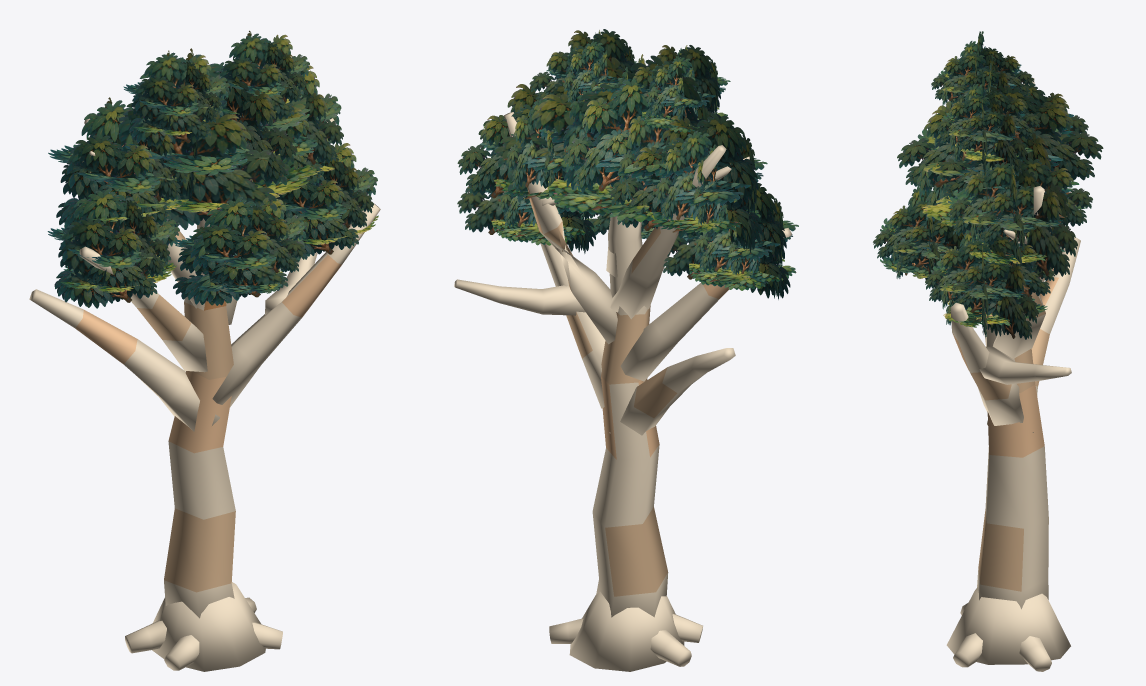
Rendered from TREE_EUCALYPTUS_001_v011_LOD_MAP.glb.
3 renders of one model, left to right at view 1: azimuth 30°, elevation 25°; view 2: azimuth 150°, elevation 25°; view 3: azimuth 270°, elevation 25°, orthographic. The views are drawn at different scales.
Visible parts, largest first — view 1: TREE_EUCALYPTUS_001_MAP_AUTHORED_FOLIAGE_ISLANDS, TREE_EUCALYPTUS_001_MAP_MAIN_TRUNK, TREE_EUCALYPTUS_001_MAP_LOWER_LEFT_SWEEP, TREE_EUCALYPTUS_001_MAP_SCULPTED_ROOT_COLLAR, TREE_EUCALYPTUS_001_MAP_MID_RIGHT_SWEEP, TREE_EUCALYPTUS_001_MAP_MID_LEFT_ARCH, TREE_EUCALYPTUS_001_MAP_ROOT_LONG_LEFT, TREE_EUCALYPTUS_001_MAP_ROOT_FRONT_LEFT, TREE_EUCALYPTUS_001_MAP_LOWER_RIGHT_REACH, TREE_EUCALYPTUS_001_MAP_UPPER_LEFT_FORK; view 2: TREE_EUCALYPTUS_001_MAP_AUTHORED_FOLIAGE_ISLANDS, TREE_EUCALYPTUS_001_MAP_MAIN_TRUNK, TREE_EUCALYPTUS_001_MAP_SCULPTED_ROOT_COLLAR, TREE_EUCALYPTUS_001_MAP_UPPER_RIGHT_ARCH, TREE_EUCALYPTUS_001_MAP_MID_LEFT_ARCH, TREE_EUCALYPTUS_001_MAP_LOWER_LEFT_SWEEP, TREE_EUCALYPTUS_001_MAP_UPPER_LEFT_FORK, TREE_EUCALYPTUS_001_MAP_LOWER_RIGHT_REACH, TREE_EUCALYPTUS_001_MAP_MID_RIGHT_SWEEP, TREE_EUCALYPTUS_001_MAP_ROOT_LONG_LEFT, TREE_EUCALYPTUS_001_MAP_ROOT_RIGHT_SIDE, TREE_EUCALYPTUS_001_MAP_ROOT_FRONT_LEFT; view 3: TREE_EUCALYPTUS_001_MAP_AUTHORED_FOLIAGE_ISLANDS, TREE_EUCALYPTUS_001_MAP_MAIN_TRUNK, TREE_EUCALYPTUS_001_MAP_SCULPTED_ROOT_COLLAR, TREE_EUCALYPTUS_001_MAP_MID_RIGHT_SWEEP, TREE_EUCALYPTUS_001_MAP_LOWER_RIGHT_REACH, TREE_EUCALYPTUS_001_MAP_LOWER_LEFT_SWEEP, TREE_EUCALYPTUS_001_MAP_UPPER_RIGHT_ARCH, TREE_EUCALYPTUS_001_MAP_ROOT_RIGHT_SIDE, TREE_EUCALYPTUS_001_MAP_ROOT_FRONT_RIGHT.
Boxes of the visible parts, box(x1,y1,x2,y2) form: TREE_EUCALYPTUS_001_MAP_AUTHORED_FOLIAGE_ISLANDS: box(47, 30, 378, 308); TREE_EUCALYPTUS_001_MAP_MAIN_TRUNK: box(164, 218, 235, 618); TREE_EUCALYPTUS_001_MAP_LOWER_LEFT_SWEEP: box(29, 289, 219, 431); TREE_EUCALYPTUS_001_MAP_SCULPTED_ROOT_COLLAR: box(152, 582, 265, 671); TREE_EUCALYPTUS_001_MAP_MID_RIGHT_SWEEP: box(212, 203, 380, 407); TREE_EUCALYPTUS_001_MAP_MID_LEFT_ARCH: box(79, 246, 207, 372); TREE_EUCALYPTUS_001_MAP_ROOT_LONG_LEFT: box(125, 620, 166, 653); TREE_EUCALYPTUS_001_MAP_ROOT_FRONT_LEFT: box(164, 635, 199, 670); TREE_EUCALYPTUS_001_MAP_LOWER_RIGHT_REACH: box(265, 252, 317, 314); TREE_EUCALYPTUS_001_MAP_UPPER_LEFT_FORK: box(84, 118, 197, 308); TREE_EUCALYPTUS_001_MAP_AUTHORED_FOLIAGE_ISLANDS: box(457, 29, 798, 299); TREE_EUCALYPTUS_001_MAP_MAIN_TRUNK: box(592, 213, 668, 617); TREE_EUCALYPTUS_001_MAP_SCULPTED_ROOT_COLLAR: box(569, 591, 684, 671); TREE_EUCALYPTUS_001_MAP_UPPER_RIGHT_ARCH: box(504, 112, 617, 344); TREE_EUCALYPTUS_001_MAP_MID_LEFT_ARCH: box(620, 228, 791, 381); TREE_EUCALYPTUS_001_MAP_LOWER_LEFT_SWEEP: box(609, 348, 735, 435); TREE_EUCALYPTUS_001_MAP_UPPER_LEFT_FORK: box(610, 145, 726, 319); TREE_EUCALYPTUS_001_MAP_LOWER_RIGHT_REACH: box(454, 279, 585, 315); TREE_EUCALYPTUS_001_MAP_MID_RIGHT_SWEEP: box(540, 243, 605, 408); TREE_EUCALYPTUS_001_MAP_ROOT_LONG_LEFT: box(650, 630, 691, 666); TREE_EUCALYPTUS_001_MAP_ROOT_RIGHT_SIDE: box(549, 618, 583, 643); TREE_EUCALYPTUS_001_MAP_ROOT_FRONT_LEFT: box(672, 614, 702, 642); TREE_EUCALYPTUS_001_MAP_AUTHORED_FOLIAGE_ISLANDS: box(873, 31, 1103, 339); TREE_EUCALYPTUS_001_MAP_MAIN_TRUNK: box(977, 323, 1048, 609); TREE_EUCALYPTUS_001_MAP_SCULPTED_ROOT_COLLAR: box(946, 587, 1070, 664); TREE_EUCALYPTUS_001_MAP_MID_RIGHT_SWEEP: box(950, 302, 1023, 425); TREE_EUCALYPTUS_001_MAP_LOWER_RIGHT_REACH: box(979, 346, 1071, 384); TREE_EUCALYPTUS_001_MAP_LOWER_LEFT_SWEEP: box(987, 237, 1080, 432); TREE_EUCALYPTUS_001_MAP_UPPER_RIGHT_ARCH: box(993, 186, 1053, 358); TREE_EUCALYPTUS_001_MAP_ROOT_RIGHT_SIDE: box(1019, 636, 1051, 671); TREE_EUCALYPTUS_001_MAP_ROOT_FRONT_RIGHT: box(953, 633, 982, 667).
Bounding box in the file's own units: 7.87 × 13.1 × 5.55.
Materials: 5 (1 with a texture image).
